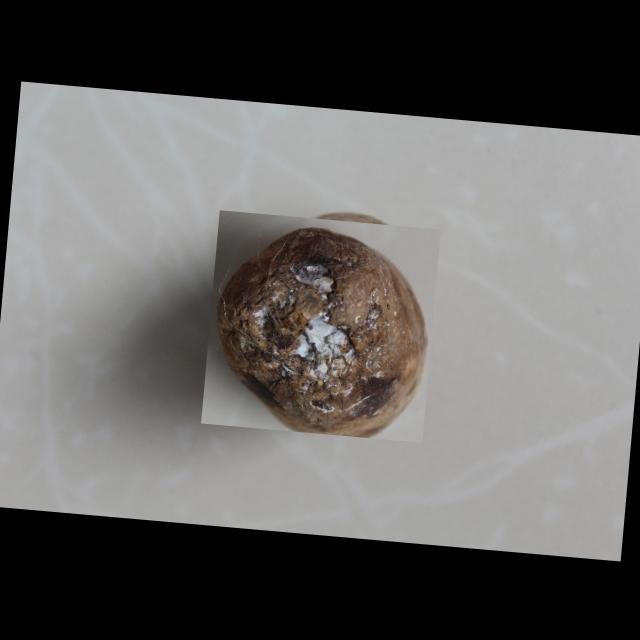Diseased-fungal potato: (200, 208, 440, 442)
